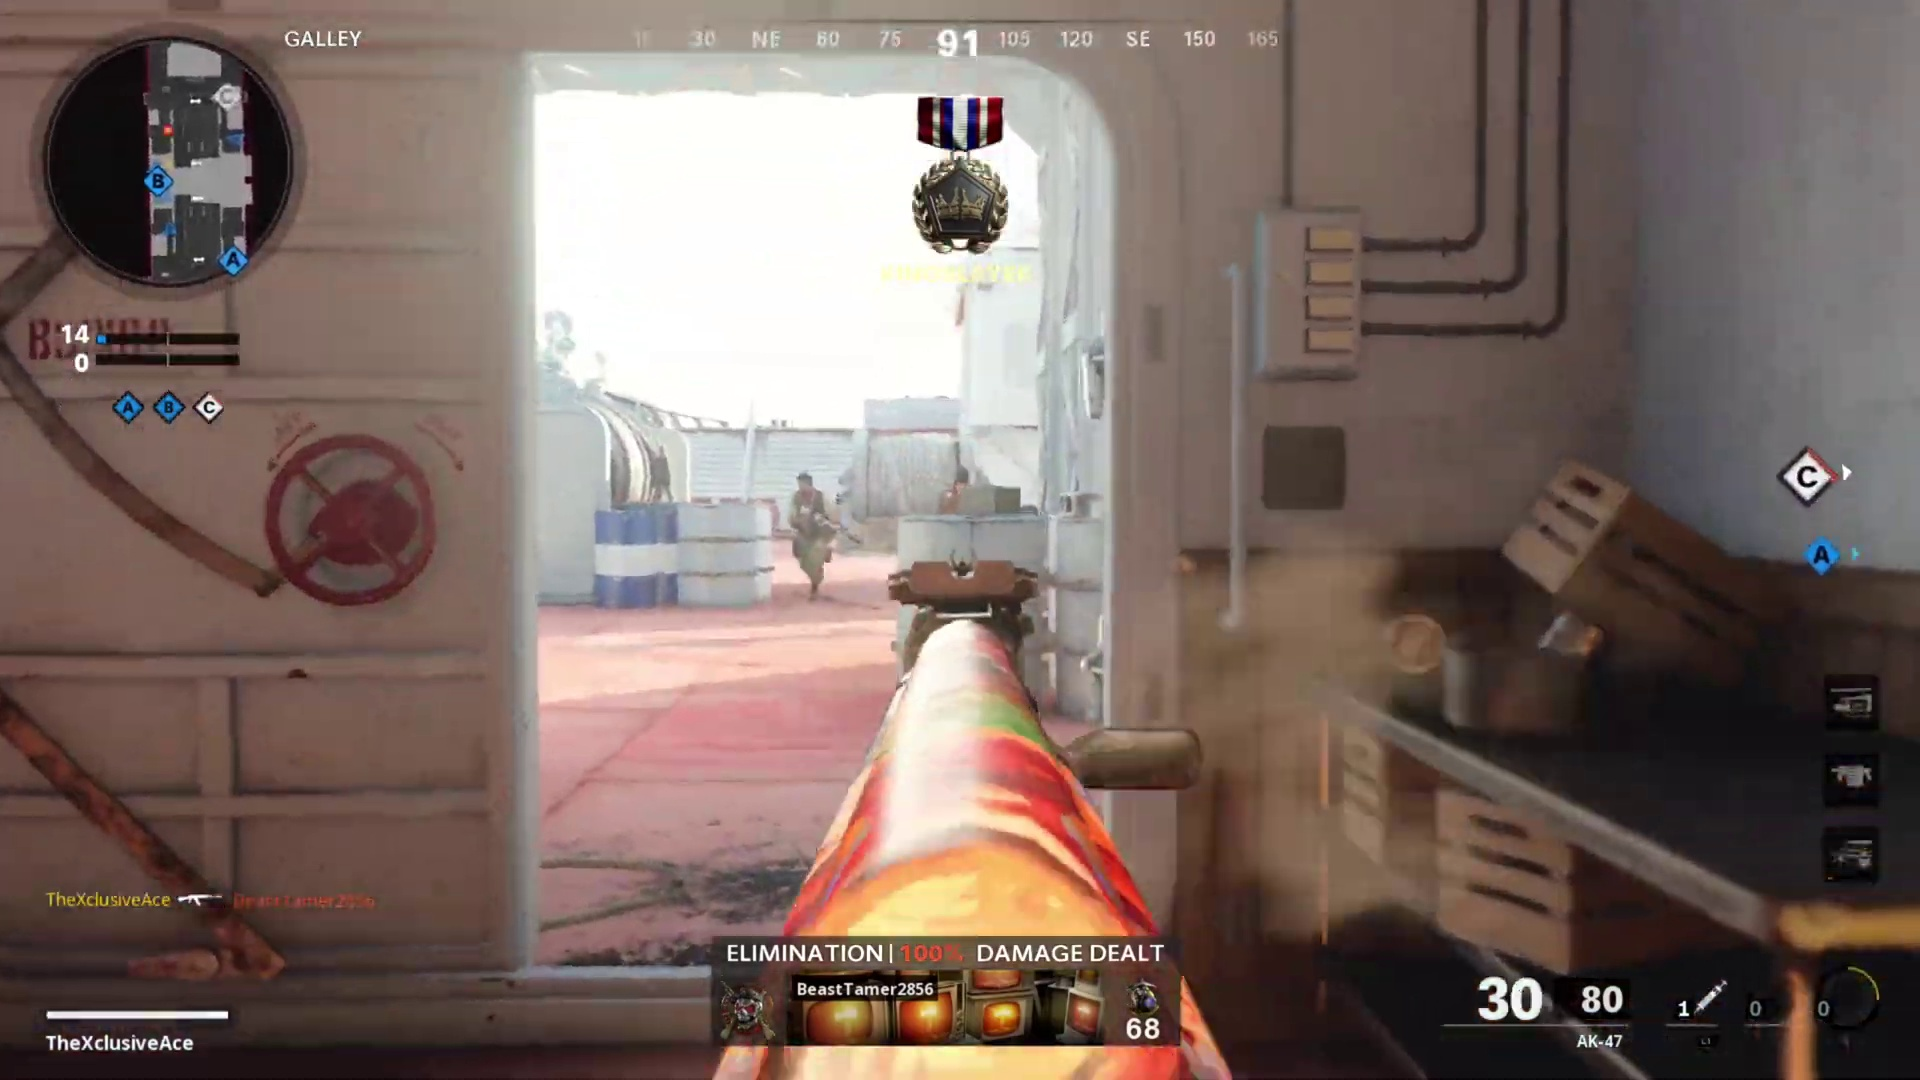head: (947, 463, 973, 498), (791, 470, 817, 503)
person: (786, 468, 836, 597)
